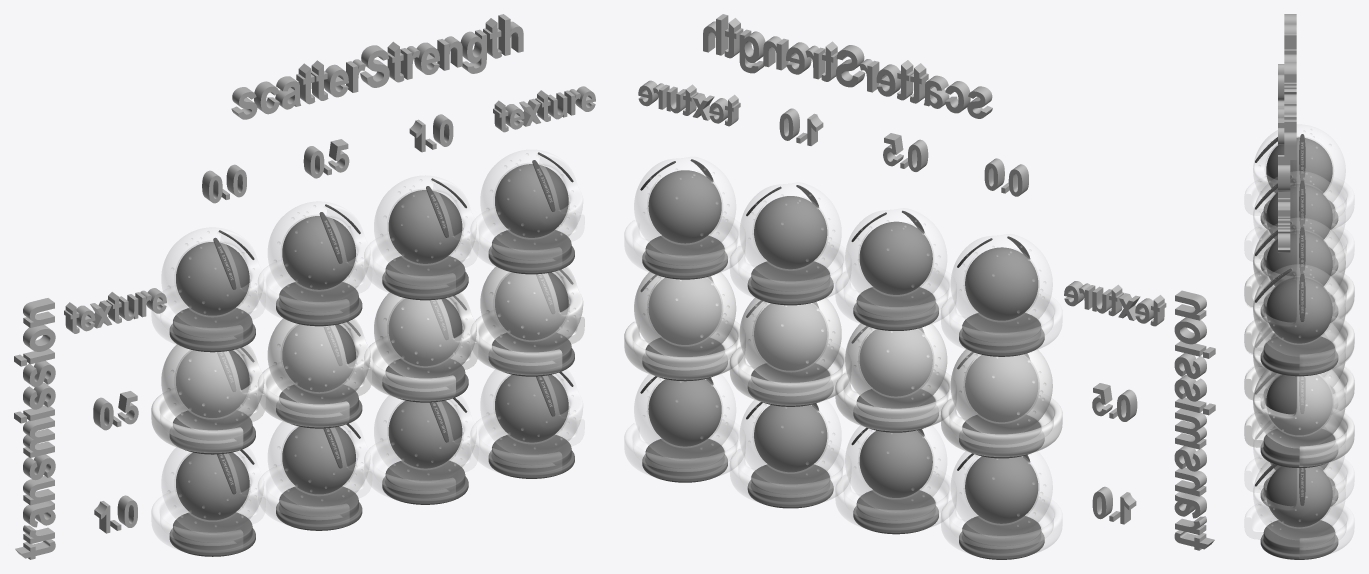
Rendered from ScatterStrength.glb.
3 views of the same model, side by side, from view 1: azimuth 30°, elevation 25°; view 2: azimuth 150°, elevation 25°; view 3: azimuth 270°, elevation 25° (orthographic). The views are drawn at different scales.
Visible parts, largest first — view 1: material_surface (×11), core (×11), base (×11), scatterStrength, material_surface_n3d, transmission, UI, texture (×2), core_n3d, base_n3d; view 2: material_surface (×11), core (×11), base (×11), material_surface_n3d, scatterStrength, transmission, UI, texture (×2), core_n3d, base_n3d; view 3: material_surface (×10), core (×6), base (×7), sss_bars (×6), scatterStrength, UI, texture.
Part boxes in pixels (box(x1,y1,x2,y2)): material_surface (×11): box(151, 150, 584, 529); core (×11): box(176, 164, 568, 494); base (×11): box(169, 230, 574, 530); scatterStrength: box(231, 14, 523, 119); material_surface_n3d: box(151, 447, 265, 554); transmission: box(14, 298, 55, 559); UI: box(93, 114, 453, 533); texture (×2): box(64, 86, 595, 333); core_n3d: box(176, 452, 249, 520); base_n3d: box(169, 512, 255, 556); material_surface (×11): box(624, 157, 1062, 532); core (×11): box(648, 170, 1038, 497); base (×11): box(642, 235, 1044, 534); material_surface_n3d: box(941, 451, 1062, 558); scatterStrength: box(703, 14, 992, 118); transmission: box(1174, 290, 1215, 550); UI: box(779, 108, 1137, 524); texture (×2): box(638, 80, 1166, 326); core_n3d: box(965, 456, 1038, 523); base_n3d: box(959, 516, 1044, 559); material_surface (×10): box(1244, 124, 1354, 558); core (×6): box(1266, 137, 1332, 527); base (×7): box(1260, 200, 1338, 559); sss_bars (×6): box(1255, 134, 1305, 505); scatterStrength: box(1284, 14, 1296, 159); UI: box(1278, 64, 1290, 190); texture: box(1278, 191, 1290, 252).
Size of the model in its own units: 0.4833 by 0.3657 by 0.0892.
Materials: 15 (1 with a texture image).
